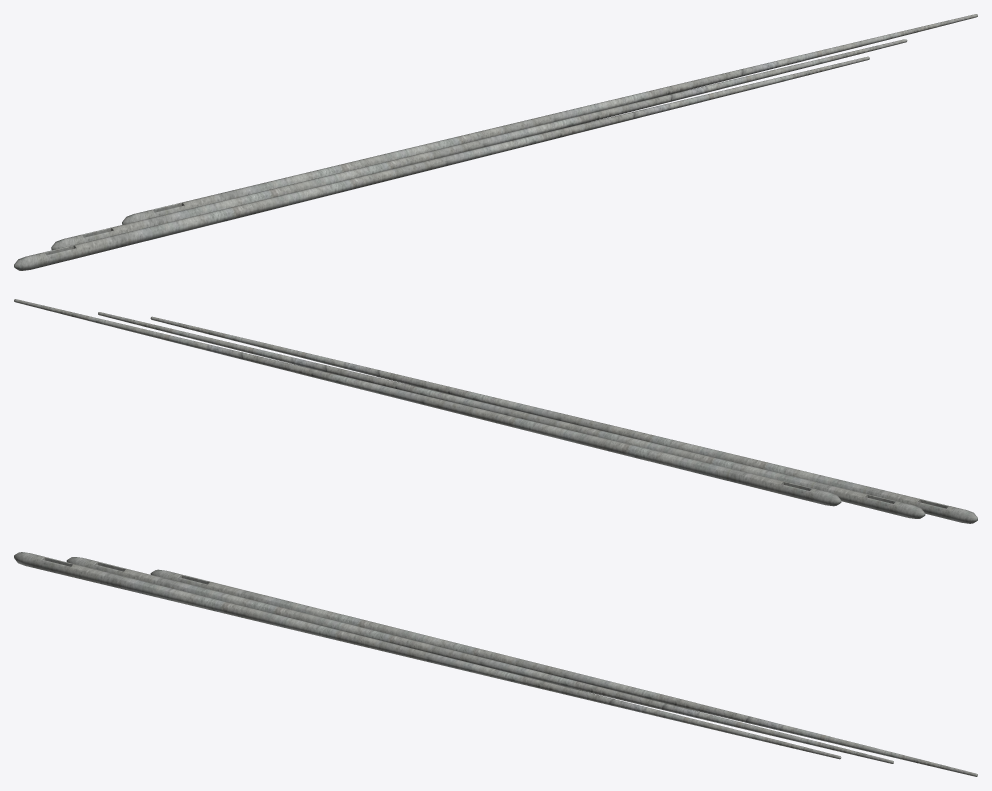
The model's file is Ingredlents_Needle.fbx.
The picture shows the model from 3 angles, top to bottom: view 1: azimuth 30°, elevation 25°; view 2: azimuth 150°, elevation 25°; view 3: azimuth 330°, elevation 25°; orthographic projection. The views are drawn at different scales.
Visible parts, largest first — view 1: Needle4; view 2: Needle4; view 3: Needle4.
Boxes of the visible parts, x1,y1,x2,y2 form: Needle4: (14,14,977,270); Needle4: (14,299,977,523); Needle4: (14,552,977,776).
Bounding box in the file's own units: 3.43 × 0.0413 × 0.1413.
1 material, 1 textured.
